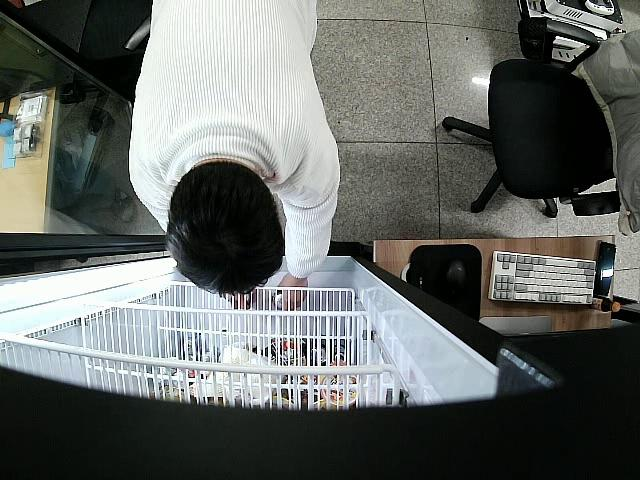00_hand: (278, 272, 309, 309)
